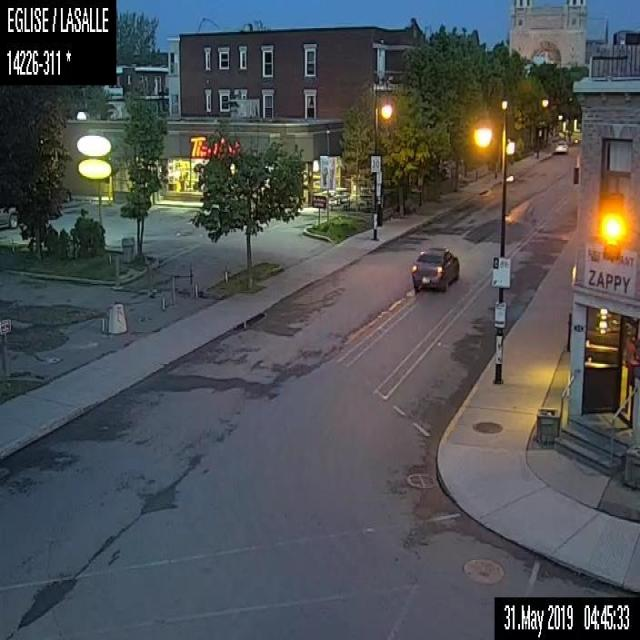vehicle: (410, 246, 459, 294), (0, 203, 20, 228), (553, 139, 567, 153)
